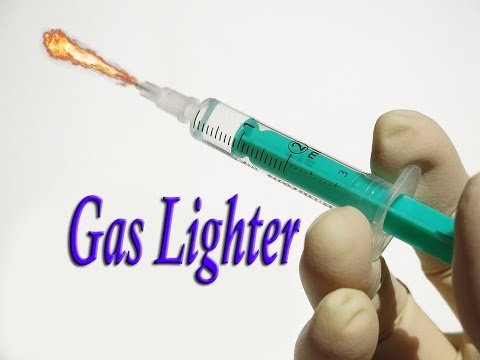Nonrec_Other: (133, 66, 451, 263)
